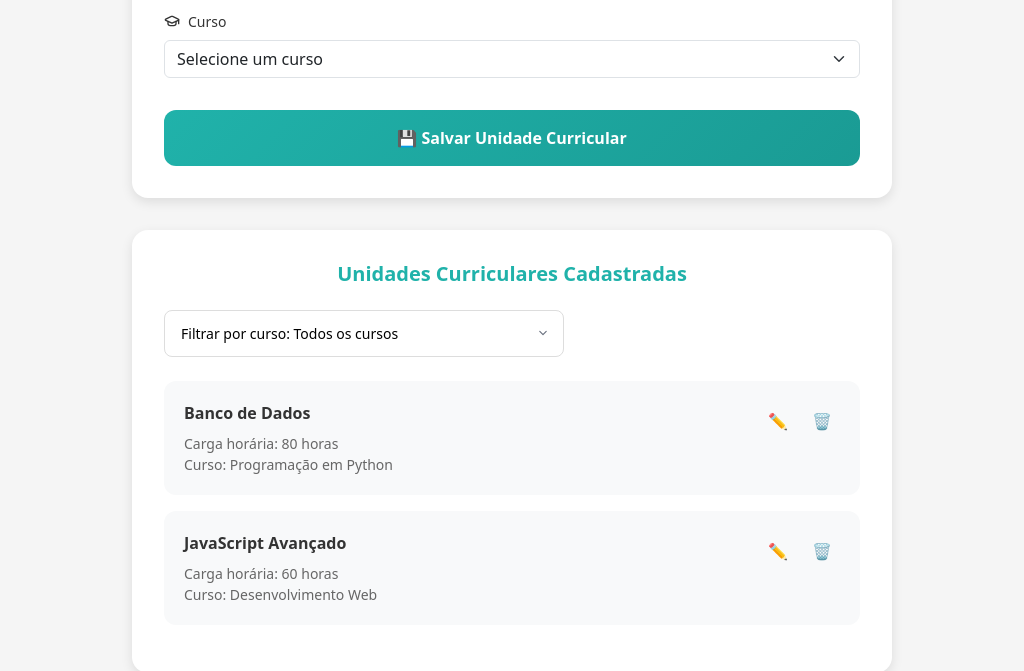
Test: UcsRegistrationPage › entra em modo de edição ao clicar em editar
The image size is (1024, 671).
(page scrolled)
Step 1. Click the button titled "Editar" in the row of "Banco de Dados" → (778, 421), box [760,401,796,441]
(page scrolled)
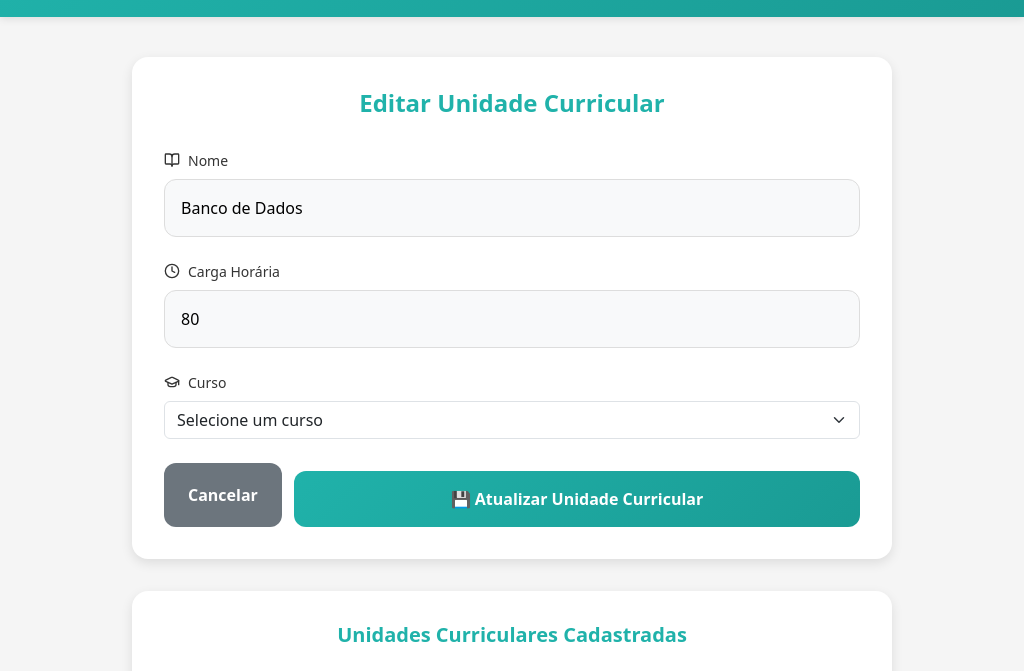
Expected: the heading "Editar Unidade Curricular" is shown, [359,86,665,119]
Expected: the field showing "Banco de Dados" is shown, [164,179,860,237]
